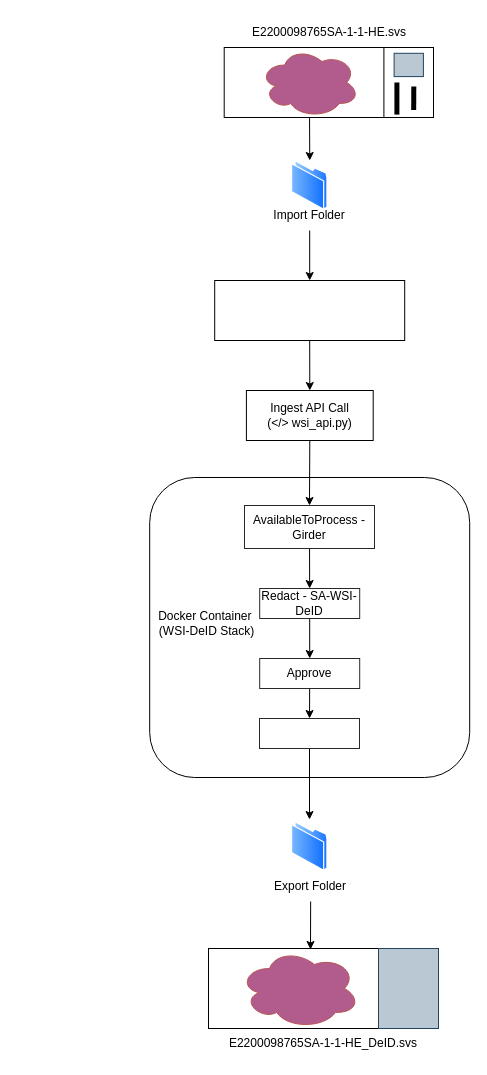
Some shapes in this 487 by 1075 pixel diagram are drawn without their labels. The shapes that lost their labels are listed below. From the top down, each one's centre as x and y in pixels, then its label:
point 309,310: Generate Manifest (.xlsx) (</> mainfest_geneartor.py)
point 309,733: Export
